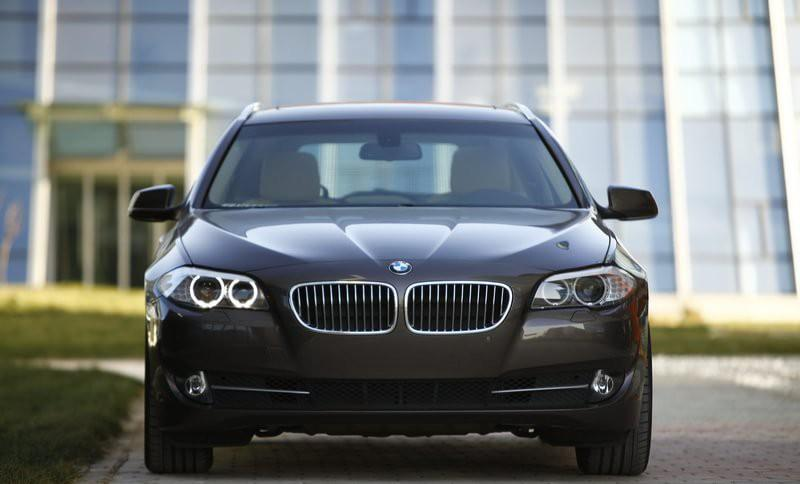Wagon: (129, 98, 661, 475)
